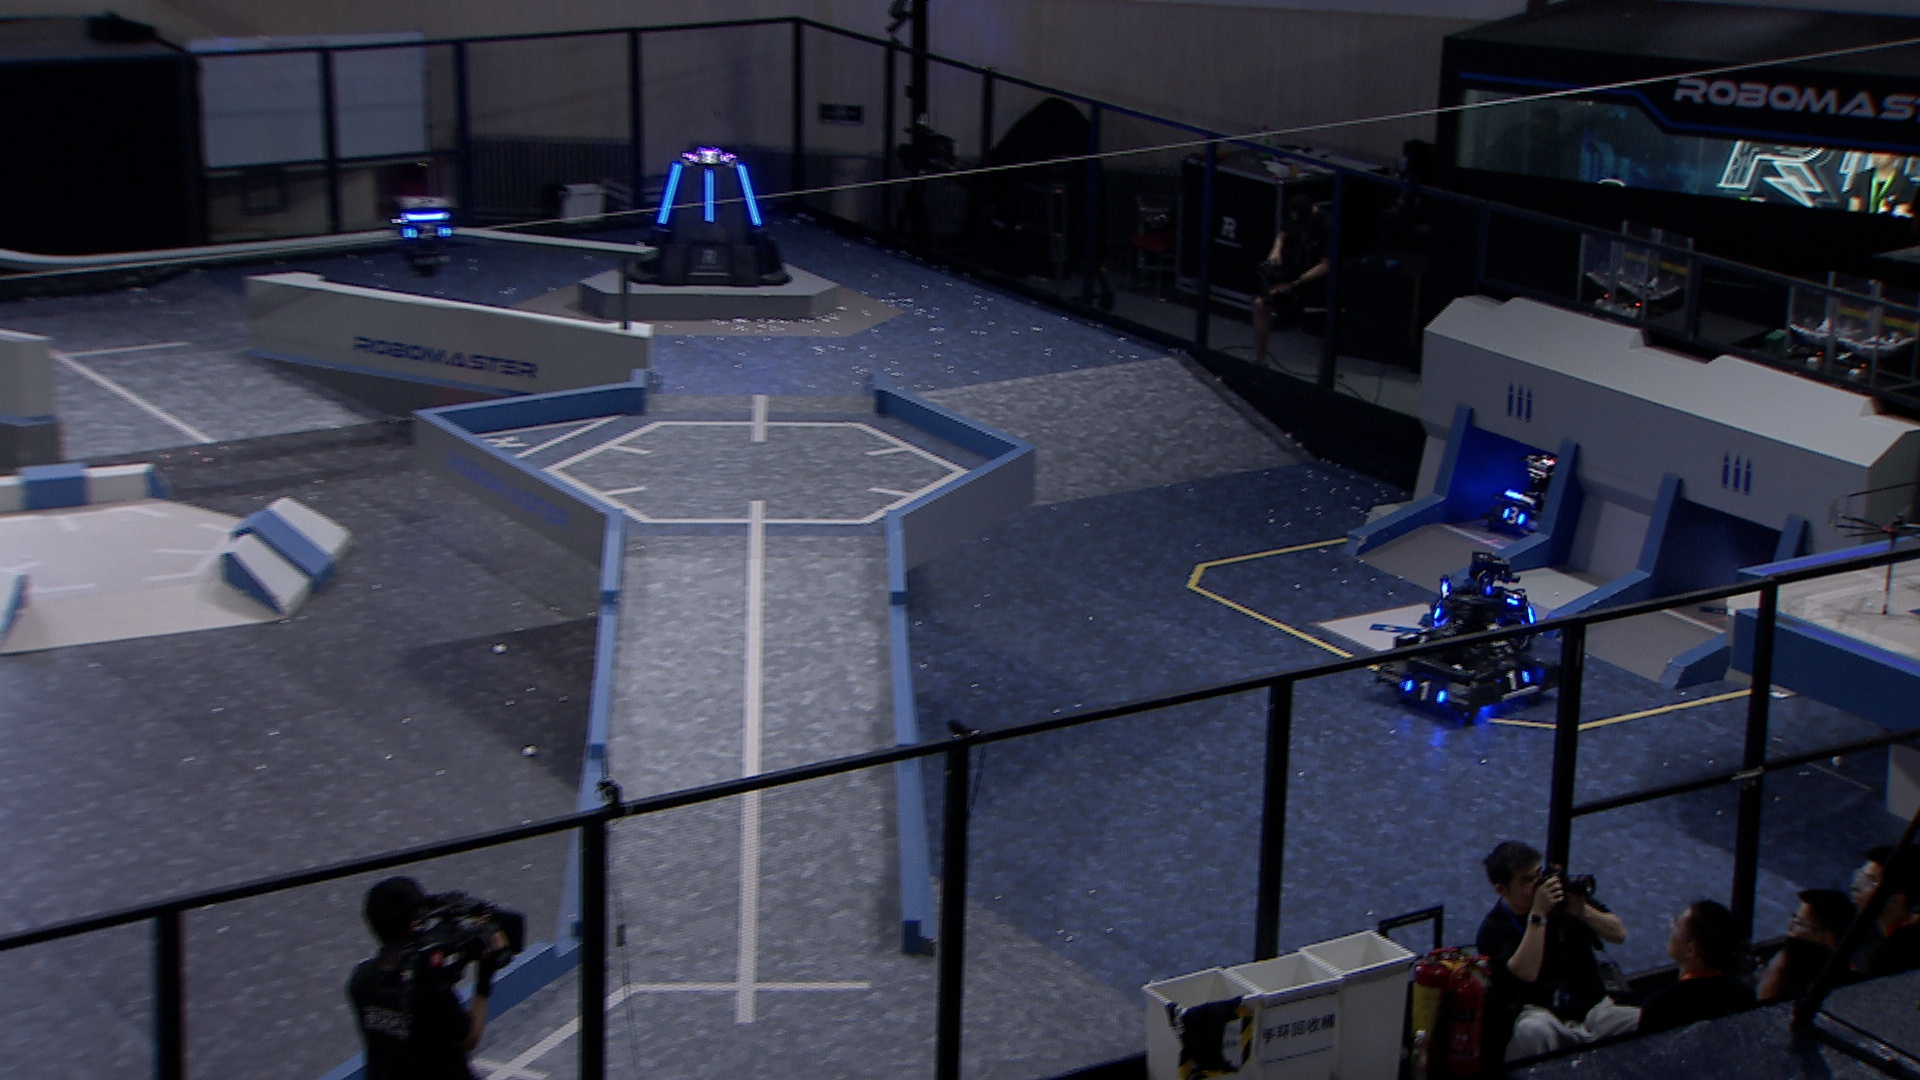armor: (735, 164, 764, 229), (651, 161, 680, 225), (1403, 680, 1447, 709), (702, 169, 717, 225), (401, 222, 448, 240), (1499, 670, 1532, 692), (1501, 506, 1528, 527), (1503, 585, 1523, 607)
base: (618, 145, 795, 287)
car: (1373, 588, 1560, 717), (1423, 550, 1542, 651), (1487, 452, 1582, 538)
ignore: (690, 149, 732, 167)
watcher: (386, 191, 463, 281)
